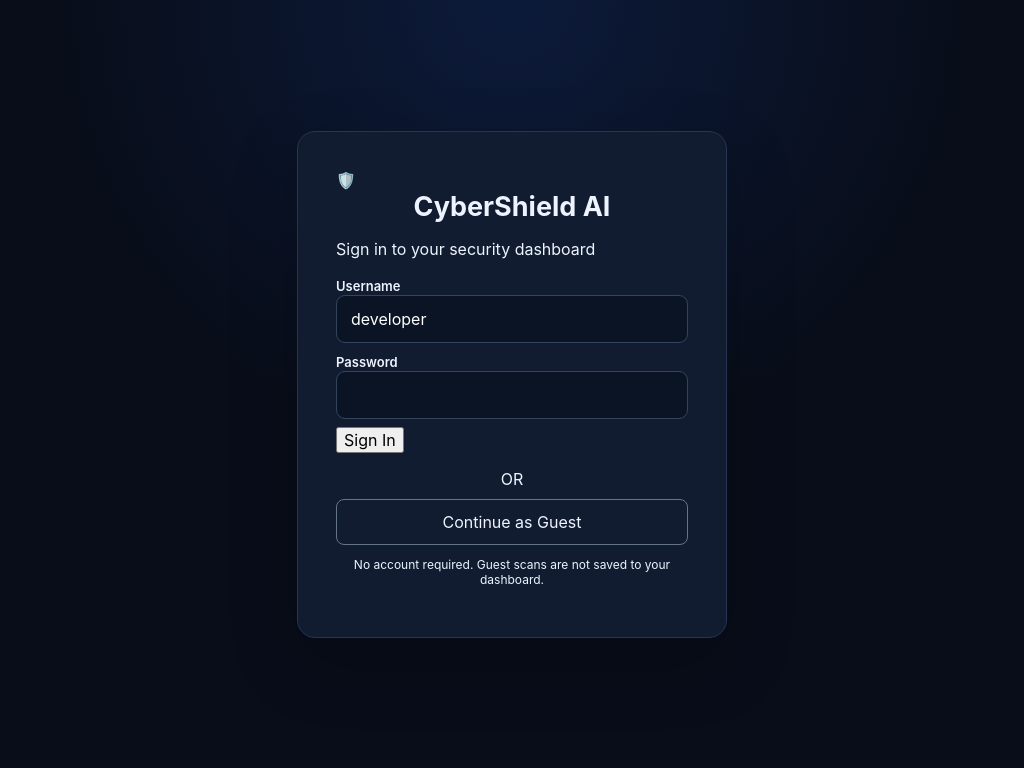
Test case: CyberShield AI Dashboard › displays the dashboard after login
This screenshot has width=1024, height=768.
In the password field labelled "Password": (512, 394) [336, 370, 688, 418], type "test-password"
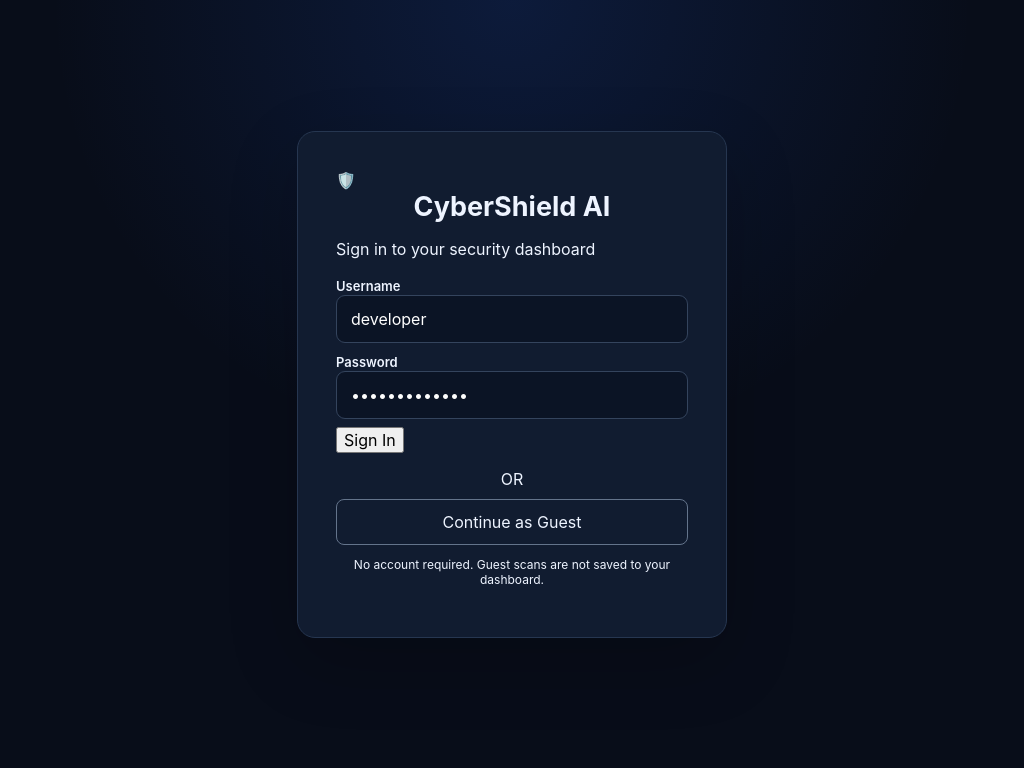
Click the button "Sign In": (370, 440) [336, 426, 404, 452]
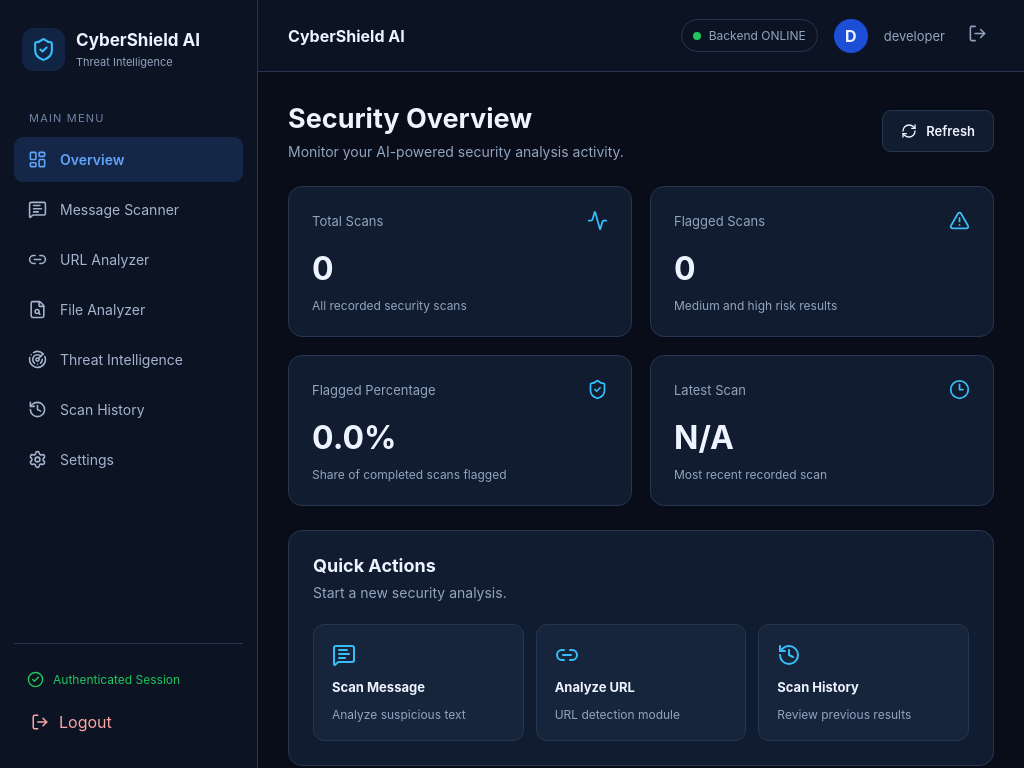
expect the heading "Security Overview" is shown: met, box [288, 102, 532, 135]
expect the text "Total Scans" is shown: met, box [312, 212, 383, 228]
